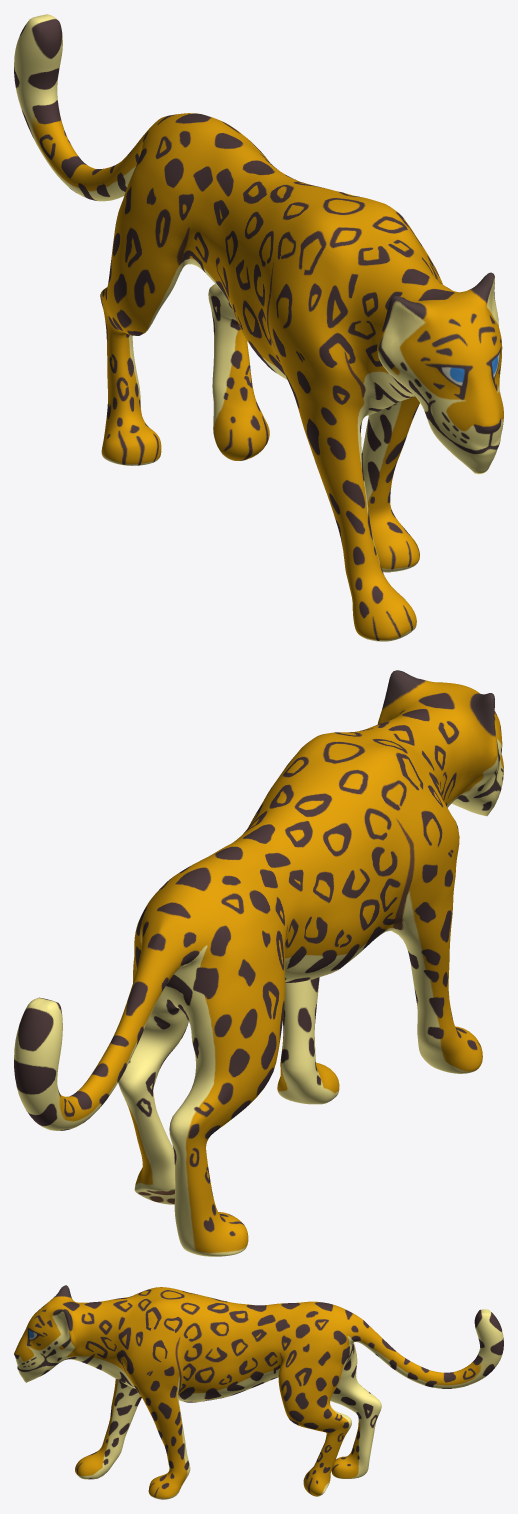
The picture shows the model from 3 angles, top to bottom: view 1: azimuth 30°, elevation 25°; view 2: azimuth 150°, elevation 25°; view 3: azimuth 270°, elevation 25°; orthographic projection. The views are drawn at different scales.
Visible parts, largest first — view 1: node_id365; view 2: node_id365; view 3: node_id365.
Part boxes in pixels (x1=…): node_id365: x1=14, y1=14, x2=503, y2=641; node_id365: x1=14, y1=670, x2=503, y2=1256; node_id365: x1=14, y1=1285, x2=503, y2=1499.
Size of the model in its own units: 54.12 by 121 by 282.
1 material, 1 textured.
